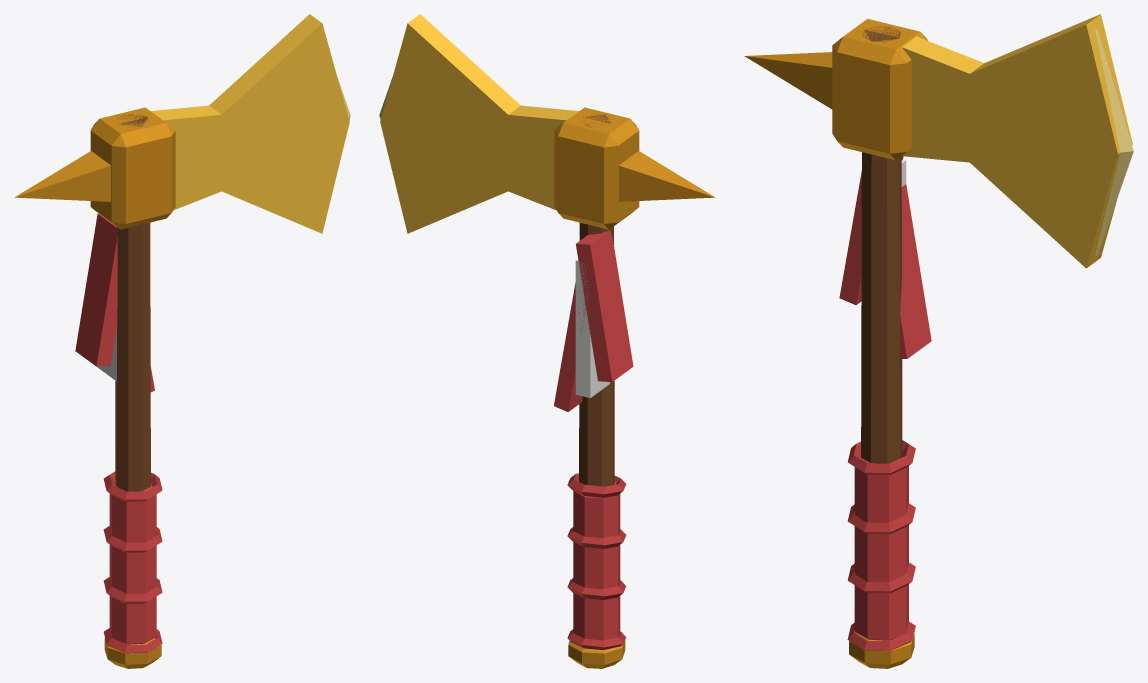
The model's file is GoldTomahawk.fbx.
The picture shows the model from 3 angles, left to right: view 1: azimuth 30°, elevation 25°; view 2: azimuth 150°, elevation 25°; view 3: azimuth 330°, elevation 25°; orthographic projection. The views are drawn at different scales.
Parts seen in each view (by area): view 1: GoldTomahawk; view 2: GoldTomahawk; view 3: GoldTomahawk.
Boxes of the visible parts, x1,y1,x2,y2 form: GoldTomahawk: (14, 14, 350, 668); GoldTomahawk: (379, 14, 715, 668); GoldTomahawk: (744, 14, 1133, 668).
Bounding box in the file's own units: 1.84 × 3.12 × 0.35.
1 material, 1 textured.
